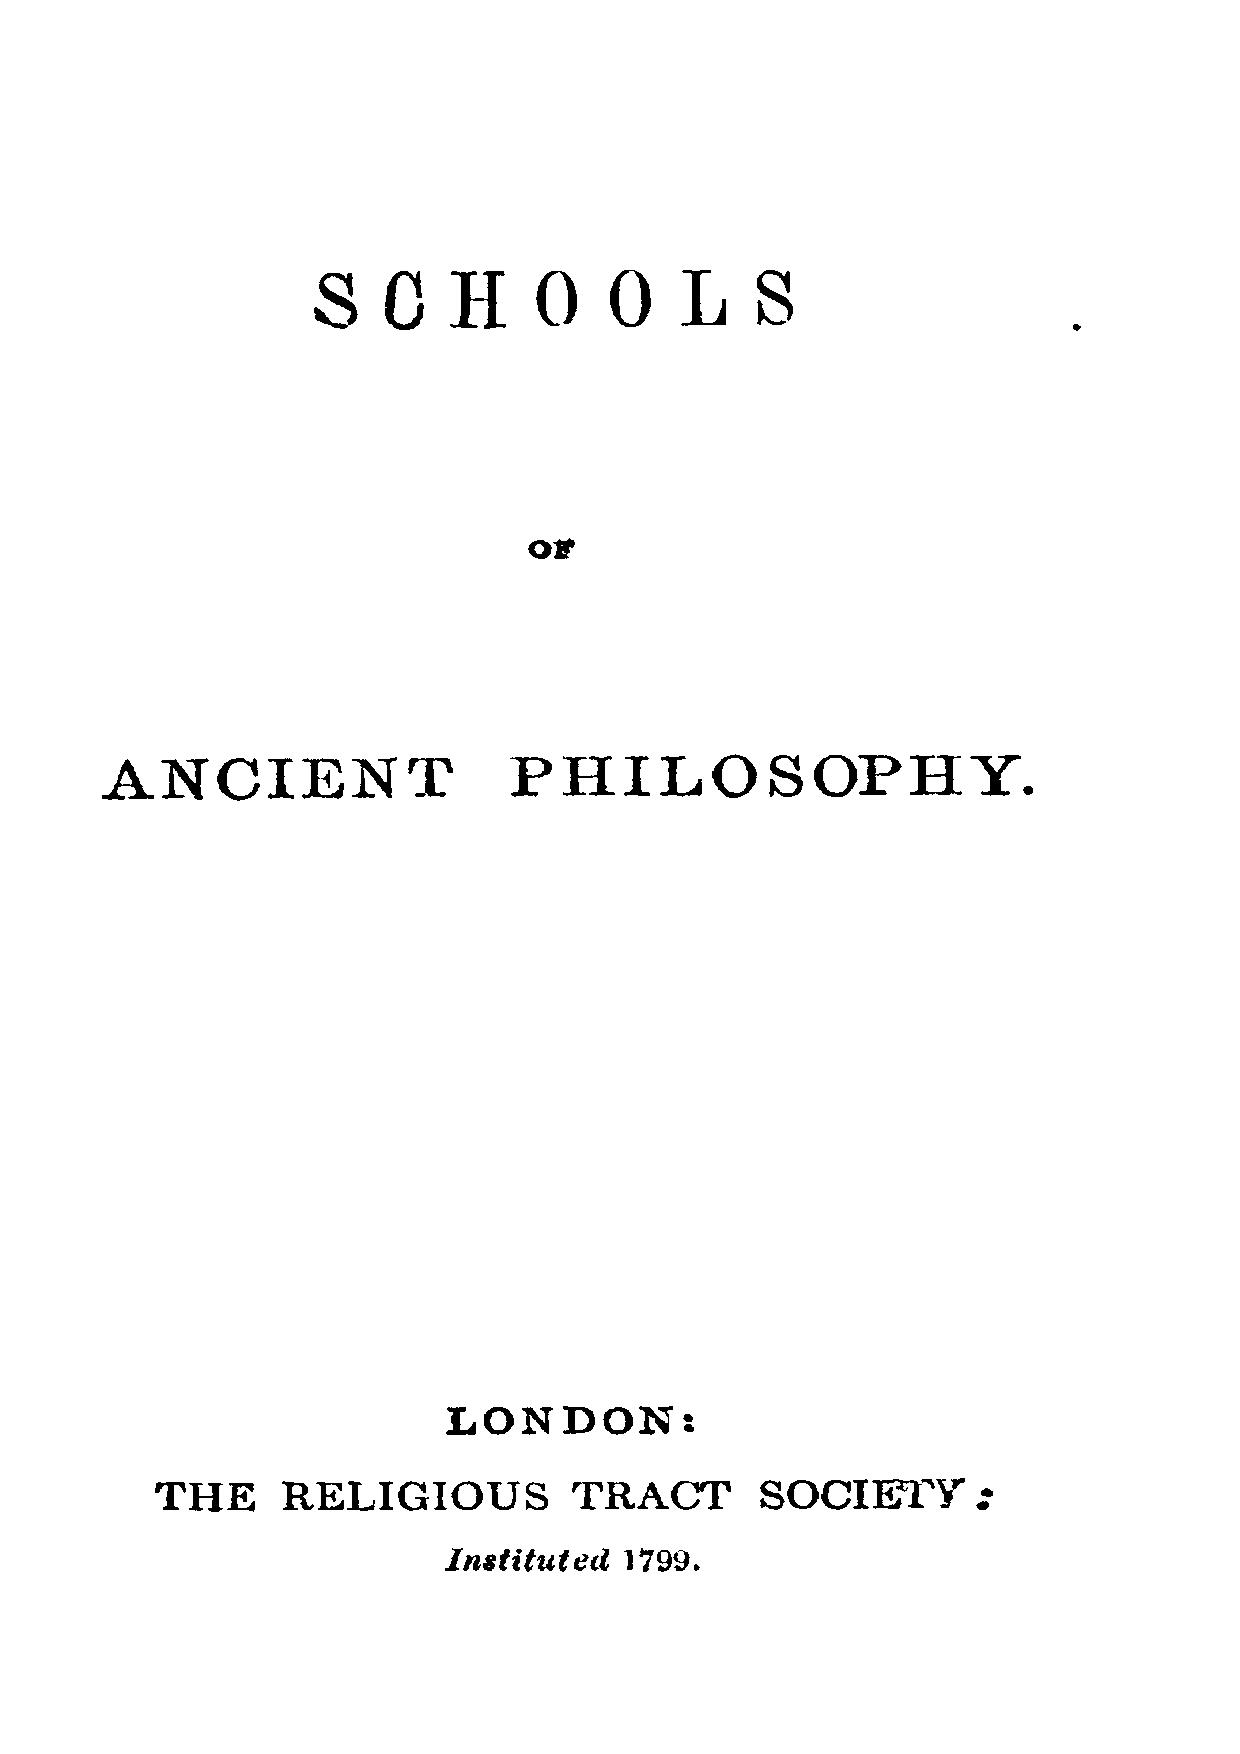title: (98, 266, 1035, 804)
